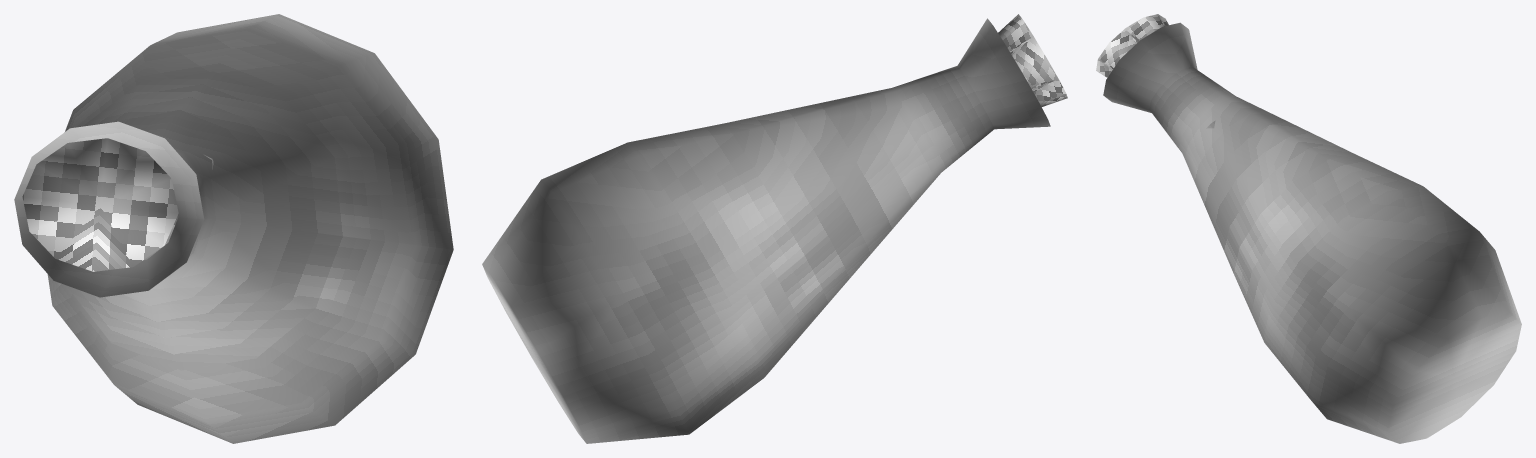
The model's file is bottlemessage.obj.
3 views of the same model, side by side, from view 1: azimuth 30°, elevation 25°; view 2: azimuth 150°, elevation 25°; view 3: azimuth 270°, elevation 25° (orthographic). The views are drawn at different scales.
Visible parts, largest first — view 1: Cylinder01, Duplicate01, Cylinder02; view 2: Cylinder01, Duplicate01, Cylinder02; view 3: Cylinder01, Duplicate01, Cylinder02.
Boxes of the visible parts, bbox=[...] form: Cylinder01: bbox=[47, 14, 453, 443]; Duplicate01: bbox=[14, 71, 342, 370]; Cylinder02: bbox=[22, 138, 178, 271]; Cylinder01: bbox=[482, 123, 828, 443]; Duplicate01: bbox=[725, 18, 1050, 302]; Cylinder02: bbox=[998, 14, 1067, 106]; Cylinder01: bbox=[1206, 120, 1521, 443]; Duplicate01: bbox=[1103, 22, 1354, 272]; Cylinder02: bbox=[1096, 14, 1168, 77].
Bounding box in the file's own units: 25.33 × 20.47 × 25.87.
